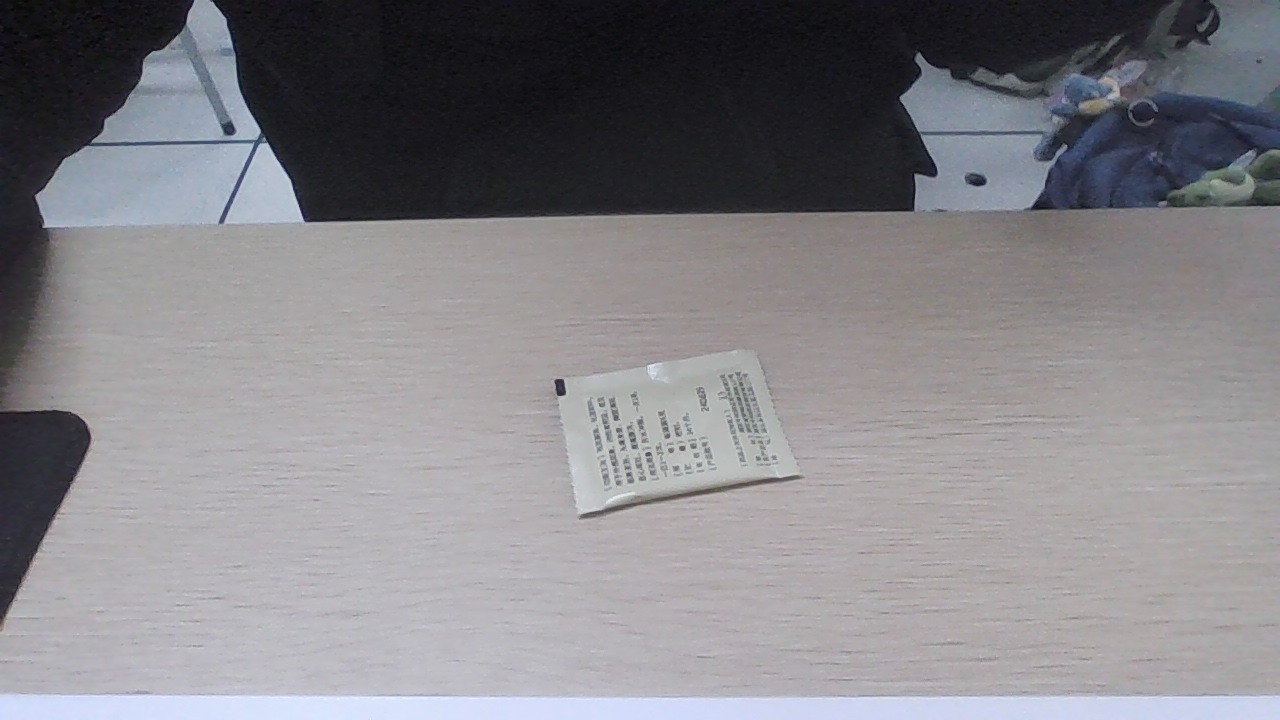YH-yellow medicine: (553, 368, 791, 497)
